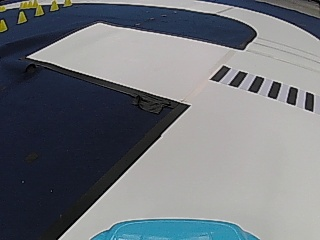CrossWalk: (212, 66, 315, 110)
